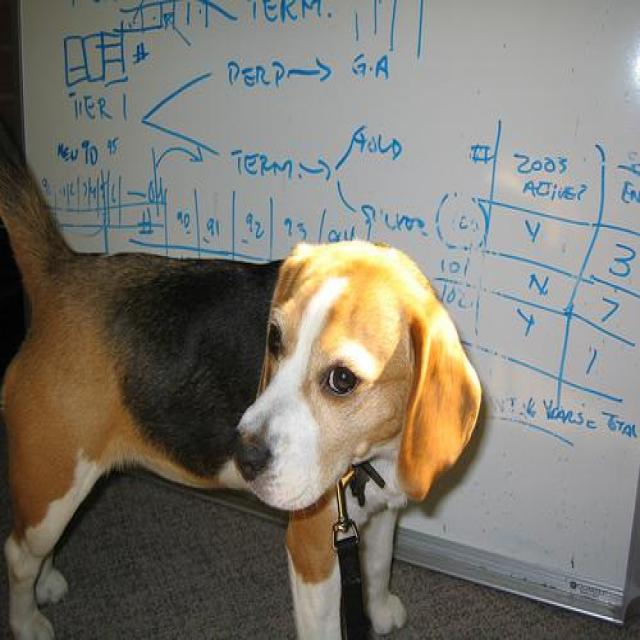beagle: (0, 116, 490, 638)
